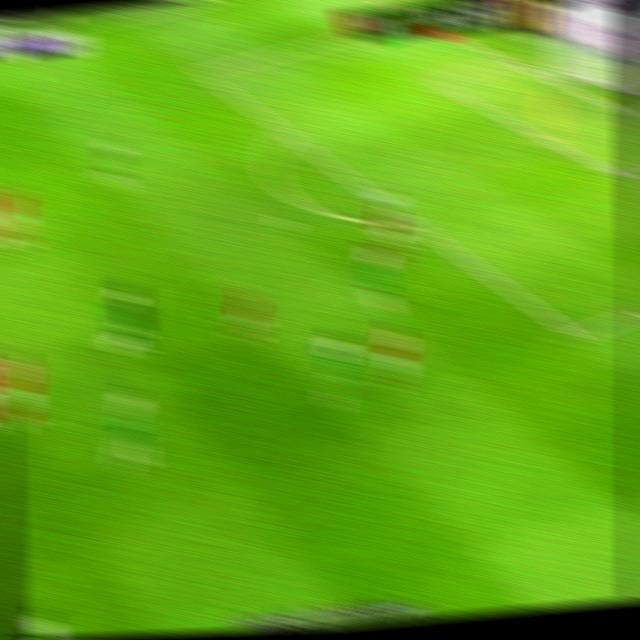bigarea_bottom_inner: (562, 322, 592, 349)
bigarea_top_inner: (193, 64, 217, 82)
bigarea_top_outter: (402, 11, 433, 31)
bottom_arc_area_intersection: (403, 214, 429, 233)
smallarea_bottom_inner: (609, 162, 640, 190)
smallarea_top_inner: (425, 74, 449, 90)
smallarea_top_outter: (494, 52, 518, 67)
top_arc_area_intersection: (277, 125, 301, 143)
